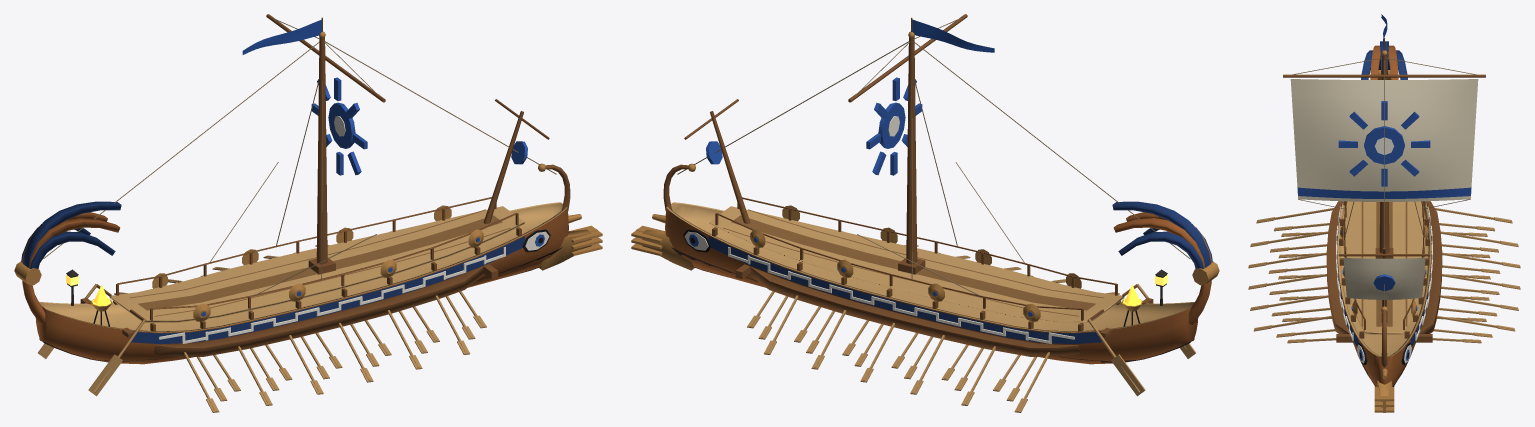
File: trireme.glb
3 renders of one model, left to right at view 1: azimuth 30°, elevation 25°; view 2: azimuth 150°, elevation 25°; view 3: azimuth 270°, elevation 25°, orthographic. The views are drawn at different scales.
Visible parts, largest first — view 1: Mesh_FightingDeck, Mesh_Hull, Mesh_DeckAndBulwarks, Mesh_OutriggerR, Mesh_DeckGangway, Mesh_TrimBand, Mesh_MainMastPole, Mesh_AphlastonRib0, Mesh_AphlastonRib3, Mesh_AphlastonRib1, Mesh_Flag_Streamer, Mesh_SailEmblemDisc (+3 smaller); view 2: Mesh_FightingDeck, Mesh_Hull, Mesh_DeckAndBulwarks, Mesh_OutriggerL, Mesh_DeckGangway, Mesh_TrimBand, Mesh_MainMastPole, Mesh_AphlastonRib0, Mesh_AphlastonRib4, Mesh_AphlastonRib2, Mesh_Flag_Streamer, Mesh_SailEmblemDisc (+3 smaller); view 3: Mesh_Sail_Main, Mesh_FightingDeck, Mesh_Sail_Fore, Mesh_DeckAndBulwarks, Mesh_SailEmblemFoot, Mesh_OutriggerR, Mesh_OutriggerL, Mesh_Hull, Mesh_DeckGangway, Mesh_SailEmblemDisc, Mesh_MainYardArm, Mesh_MainMastPole (+12 smaller).
Part boxes in pixels (x1,y1,x2,y2): Mesh_FightingDeck: (109,206,524,322); Mesh_Hull: (35,208,568,364); Mesh_DeckAndBulwarks: (39,202,567,332); Mesh_OutriggerR: (154,266,483,356); Mesh_DeckGangway: (129,209,510,316); Mesh_TrimBand: (131,236,524,344); Mesh_MainMastPole: (316,37,327,264); Mesh_AphlastonRib0: (23,201,121,267); Mesh_AphlastonRib3: (30,231,115,268); Mesh_AphlastonRib1: (28,218,120,268); Mesh_Flag_Streamer: (242,19,321,54); Mesh_SailEmblemDisc: (328,102,355,148); Mesh_FightingDeck: (709,206,1124,322); Mesh_Hull: (665,208,1198,364); Mesh_DeckAndBulwarks: (666,202,1194,332); Mesh_OutriggerL: (750,267,1079,356); Mesh_DeckGangway: (723,209,1104,316); Mesh_TrimBand: (709,236,1103,344); Mesh_MainMastPole: (906,37,917,264); Mesh_AphlastonRib0: (1112,201,1210,267); Mesh_AphlastonRib4: (1118,231,1203,268); Mesh_AphlastonRib2: (1113,218,1205,268); Mesh_Flag_Streamer: (912,19,994,52); Mesh_SailEmblemDisc: (878,102,905,148); Mesh_Sail_Main: (1290,79,1478,201); Mesh_FightingDeck: (1343,201,1425,334); Mesh_Sail_Fore: (1343,258,1425,299); Mesh_DeckAndBulwarks: (1337,201,1431,356); Mesh_SailEmblemFoot: (1297,187,1471,198); Mesh_OutriggerR: (1326,201,1349,333); Mesh_OutriggerL: (1419,201,1442,333); Mesh_Hull: (1337,254,1431,386); Mesh_DeckGangway: (1361,201,1407,326); Mesh_SailEmblemDisc: (1364,126,1404,164); Mesh_MainYardArm: (1283,74,1485,77); Mesh_MainMastPole: (1379,55,1389,253).
Bounding box in the file's own units: 29.82 × 14.91 × 13.96.
